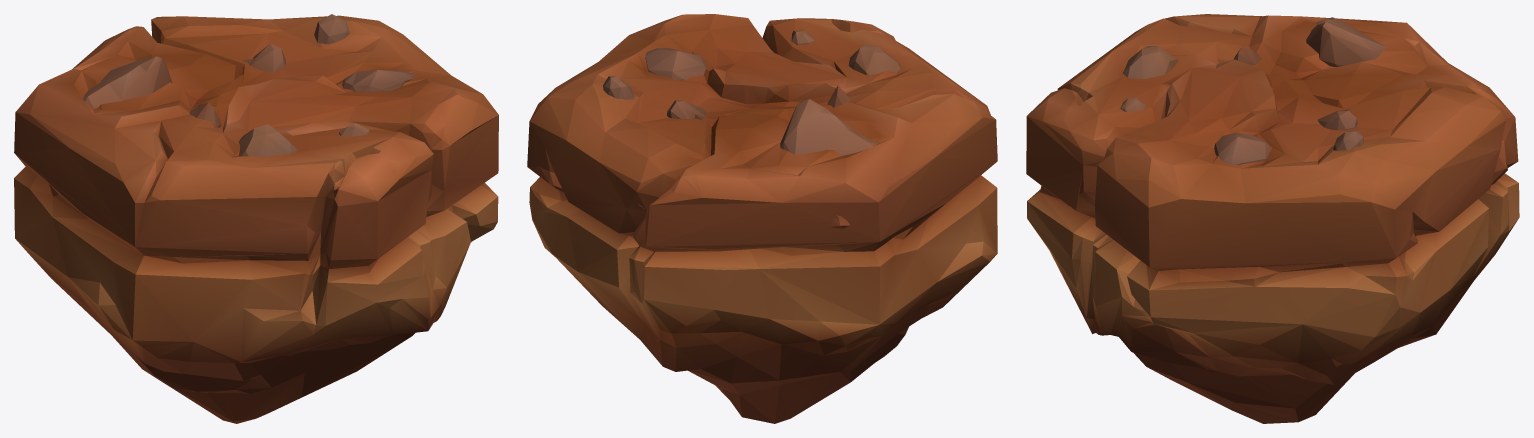
The model's file is Merged_Recovered_Tool1.fbx.
3 views of the same model, side by side, from view 1: azimuth 30°, elevation 25°; view 2: azimuth 150°, elevation 25°; view 3: azimuth 270°, elevation 25° (orthographic). The views are drawn at different scales.
Parts seen in each view (by area): view 1: Merged_Recovered_Tool1; view 2: Merged_Recovered_Tool1; view 3: Merged_Recovered_Tool1.
Part boxes in pixels (x1,y1,x2,y2): Merged_Recovered_Tool1: (14,14,498,423); Merged_Recovered_Tool1: (527,14,997,423); Merged_Recovered_Tool1: (1026,14,1519,423).
Size of the model in its own units: 1.78 by 1.66 by 1.99.
